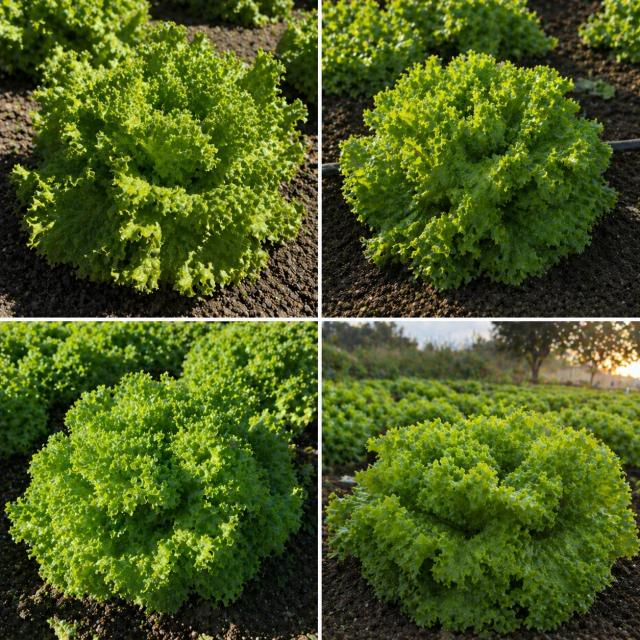lista_para_cosechar: (11, 22, 306, 295), (6, 372, 302, 612), (327, 408, 638, 633), (341, 51, 617, 289)
